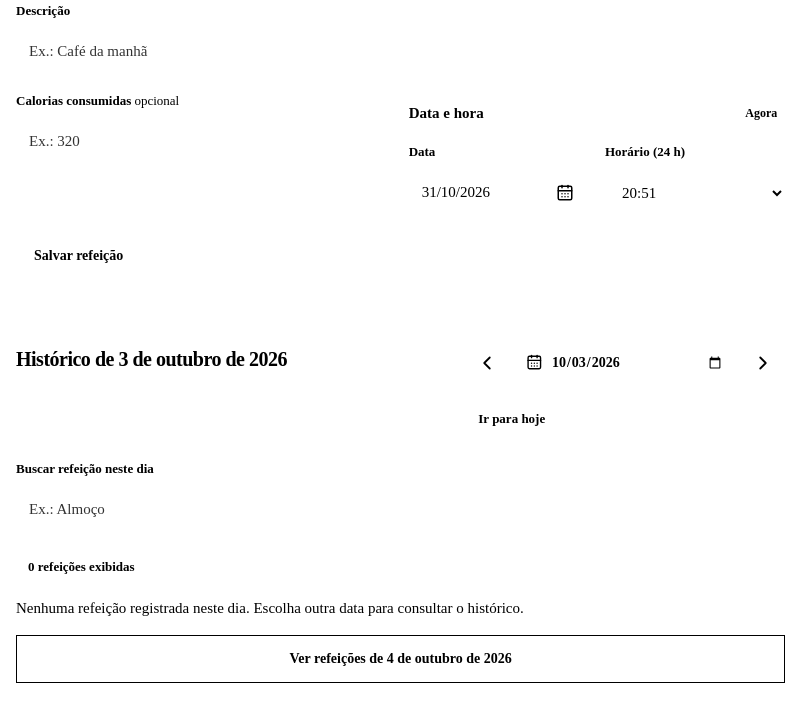
it: atalho experimental ao próximo dia com refeição › abre o primeiro dia posterior com refeição e foca a data
This screenshot has width=802, height=712.
(page scrolled)
Click the button "Ver refeições de".
click(401, 659)  # box [16, 635, 785, 683]
(page scrolled)
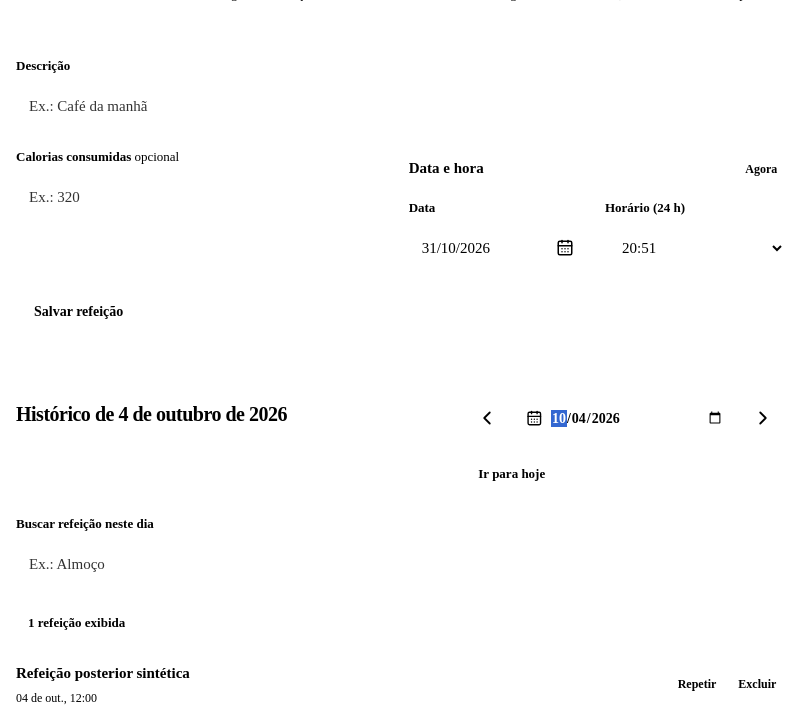
Expected: the date field named "Data do histórico de refeições" holds "2026-10-04", [550, 406, 724, 430]
Expected: the text "Refeição posterior sintética" is shown, [16, 665, 190, 681]
